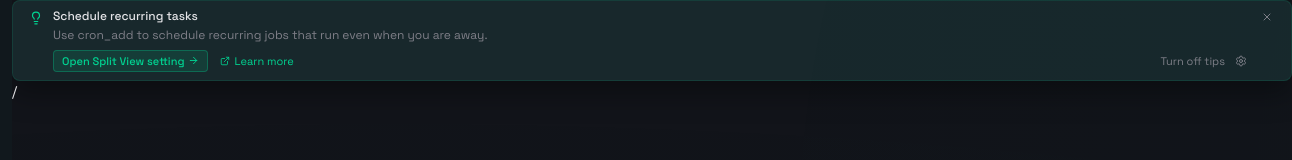
Scenario: TipCard action button › renders the action button and navigates + acks on click
Click the button "Open Split View setting" at (131, 60), box [53,50,208,72]
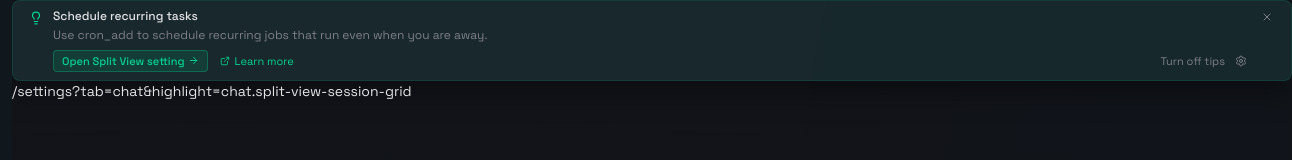
Result: the text with test id "loc" reads "/settings?tab=chat&highlight=chat.split-view-session-grid" at [12,82,412,100]
